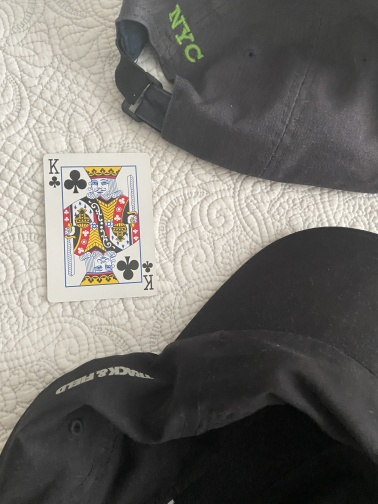king: (42, 150, 157, 304)
